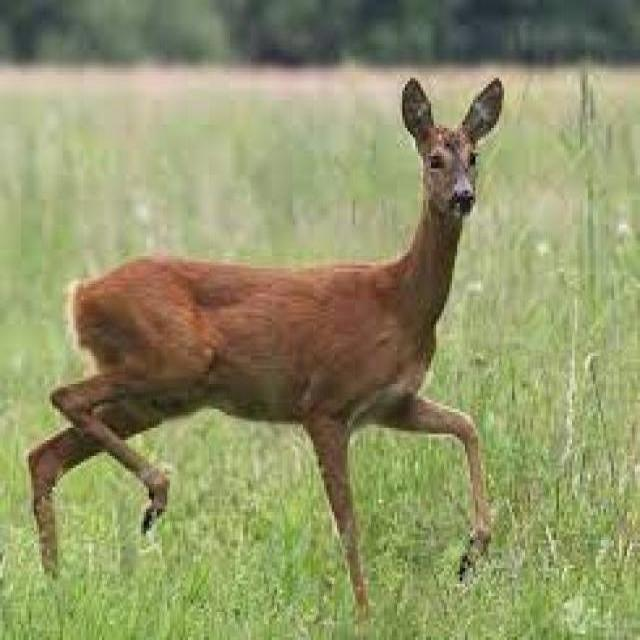deer: (29, 49, 514, 612)
